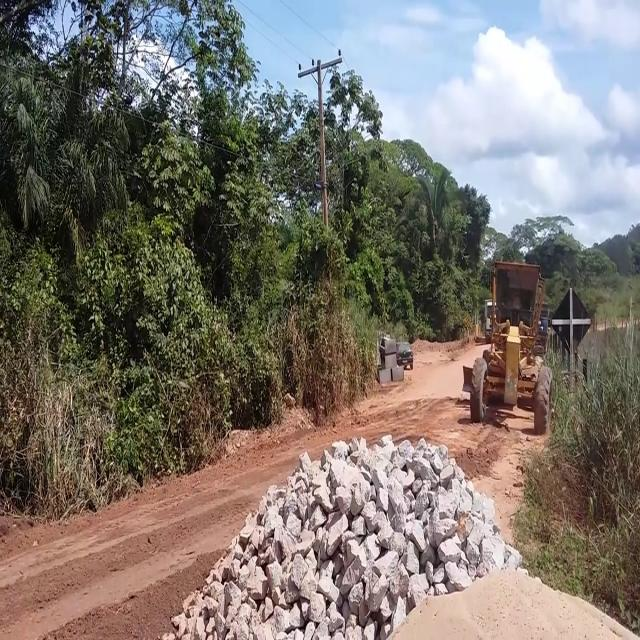buldozerpayloadergrader: (465, 259, 557, 432)
